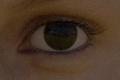eye: (45, 22, 76, 48)
